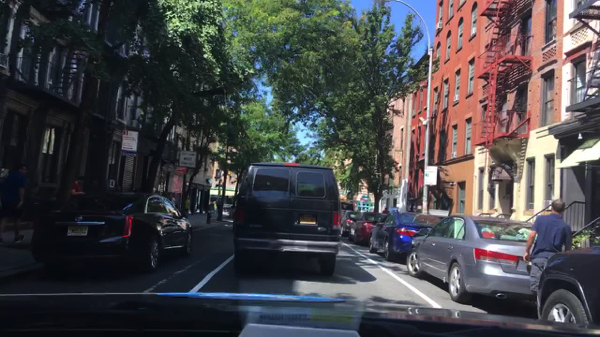car: (27, 188, 195, 275), (230, 160, 343, 285), (405, 213, 537, 306), (535, 243, 599, 330), (367, 209, 443, 263), (346, 213, 388, 246), (339, 209, 361, 238), (339, 201, 357, 223), (222, 203, 234, 213)
person: (521, 198, 573, 292), (0, 162, 29, 246), (70, 176, 86, 196), (167, 192, 178, 209), (215, 195, 223, 216)
traffic light: (227, 171, 233, 177)
traffic sign: (122, 130, 139, 158), (179, 151, 196, 168), (176, 167, 187, 176), (214, 184, 223, 189)
